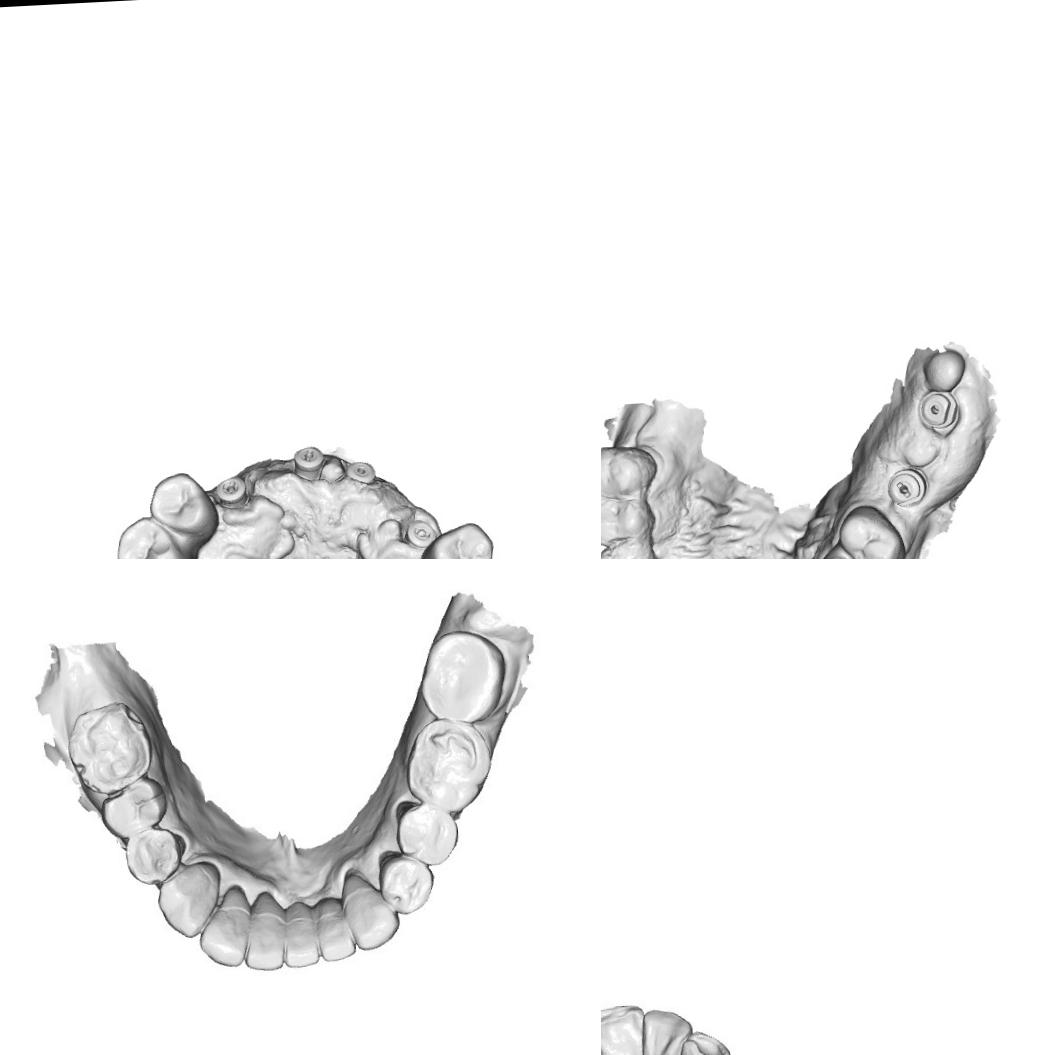canine: (154, 859, 224, 939), (338, 866, 398, 952), (679, 1022, 735, 1055), (601, 544, 642, 559)
implant: (916, 389, 961, 430), (342, 458, 378, 487)
implant_minus: (884, 464, 928, 508), (290, 443, 327, 483), (400, 516, 440, 550)
implant_plus: (206, 464, 252, 514)
incisor: (238, 902, 292, 974), (196, 895, 249, 967), (313, 893, 356, 964), (279, 902, 323, 971), (601, 1004, 650, 1055), (641, 1007, 686, 1055)
molar: (58, 701, 162, 795), (416, 625, 508, 724), (401, 713, 489, 812)
premolar: (146, 470, 220, 544), (96, 774, 172, 840), (392, 799, 463, 868), (374, 846, 437, 915), (121, 824, 188, 887), (837, 500, 907, 559), (112, 512, 188, 559), (415, 518, 496, 559), (601, 443, 658, 495), (601, 494, 652, 547)
